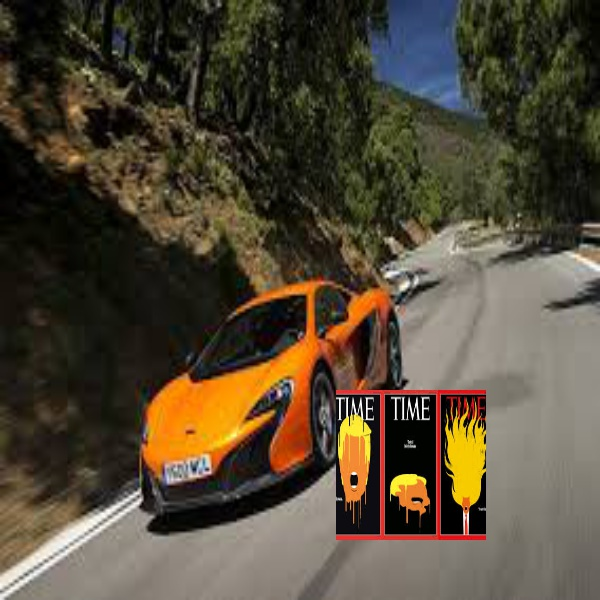time_cover: (328, 383, 379, 539), (391, 383, 440, 545), (449, 382, 492, 545)
